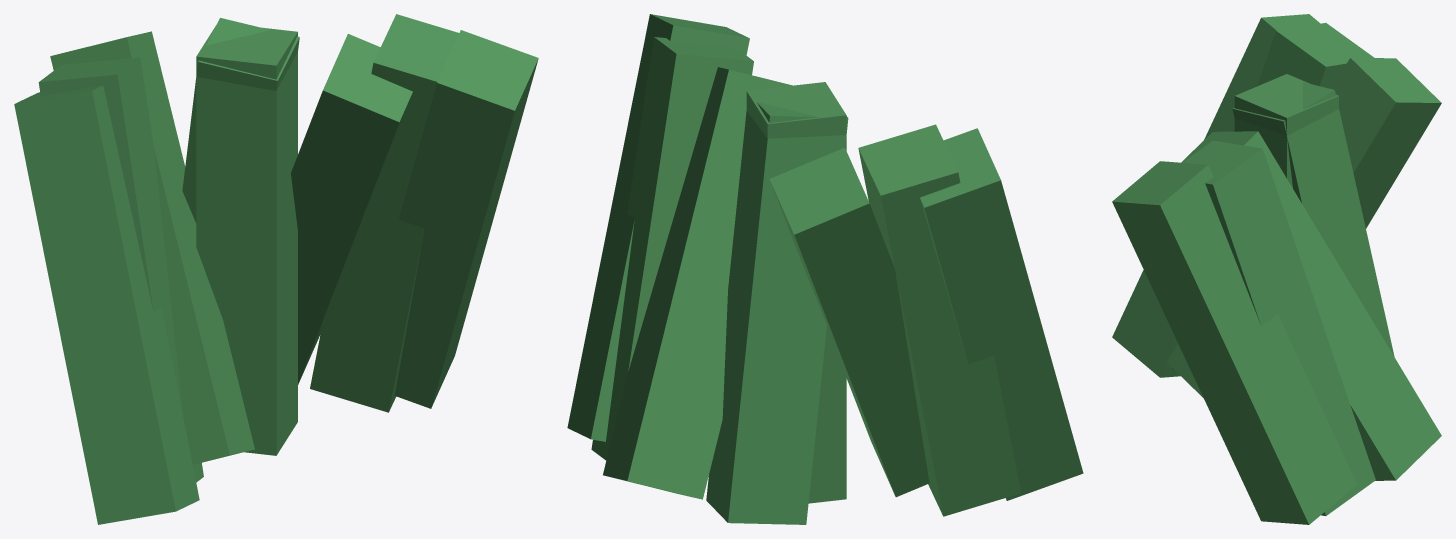
File: troll_hair.dae
3 renders of one model, left to right at view 1: azimuth 30°, elevation 25°; view 2: azimuth 150°, elevation 25°; view 3: azimuth 270°, elevation 25°, orthographic. The views are drawn at different scales.
Parts seen in each view (by area): view 1: Cylinder.006, Cylinder, Cylinder.007, Cylinder.002, Cylinder.004, Cylinder.003, Cylinder.001, Cylinder.005; view 2: Cylinder.005, Cylinder.004, Cylinder.001, Cylinder.006, Cylinder.003, Cylinder.002, Cylinder.007, Cylinder; view 3: Cylinder.007, Cylinder.002, Cylinder.004, Cylinder.005, Cylinder.003, Cylinder.006, Cylinder.001, Cylinder.
Part boxes in pixels (bbox=[...]): Cylinder.006: bbox=[14, 85, 199, 524]; Cylinder: bbox=[196, 26, 297, 455]; Cylinder.007: bbox=[394, 30, 538, 408]; Cylinder.002: bbox=[310, 14, 459, 412]; Cylinder.004: bbox=[291, 34, 412, 384]; Cylinder.003: bbox=[50, 31, 254, 464]; Cylinder.001: bbox=[38, 57, 203, 482]; Cylinder.005: bbox=[182, 18, 299, 222]; Cylinder.005: bbox=[706, 101, 848, 524]; Cylinder.004: bbox=[603, 67, 792, 499]; Cylinder.001: bbox=[858, 124, 1020, 516]; Cylinder.006: bbox=[920, 128, 1083, 500]; Cylinder.003: bbox=[769, 147, 929, 497]; Cylinder.002: bbox=[591, 37, 753, 460]; Cylinder.007: bbox=[567, 14, 749, 441]; Cylinder: bbox=[746, 82, 846, 503]; Cylinder.007: bbox=[1112, 161, 1357, 524]; Cylinder.002: bbox=[1182, 140, 1375, 515]; Cylinder.004: bbox=[1181, 131, 1441, 480]; Cylinder.005: bbox=[1232, 82, 1394, 356]; Cylinder.003: bbox=[1167, 57, 1441, 398]; Cylinder.006: bbox=[1112, 14, 1320, 377]; Cylinder.001: bbox=[1172, 23, 1374, 371]; Cylinder: bbox=[1234, 74, 1338, 187].
Bounding box in the file's own units: 26 × 18.95 × 22.79.
